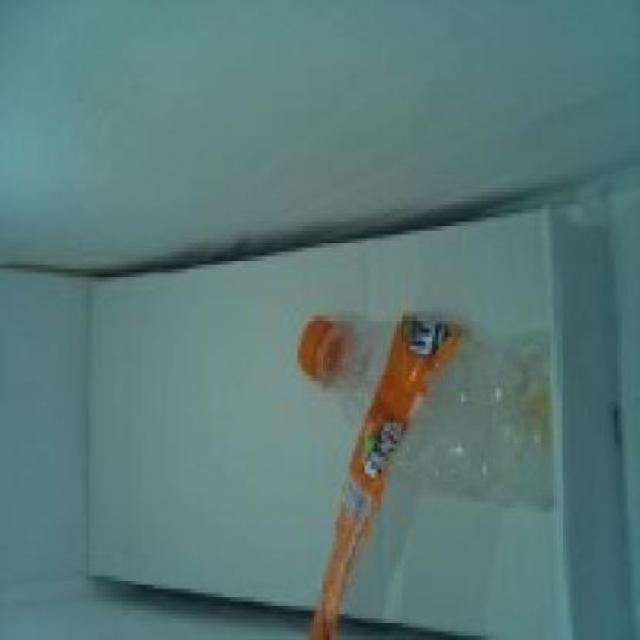Pet_Bottle: (274, 287, 595, 558)
